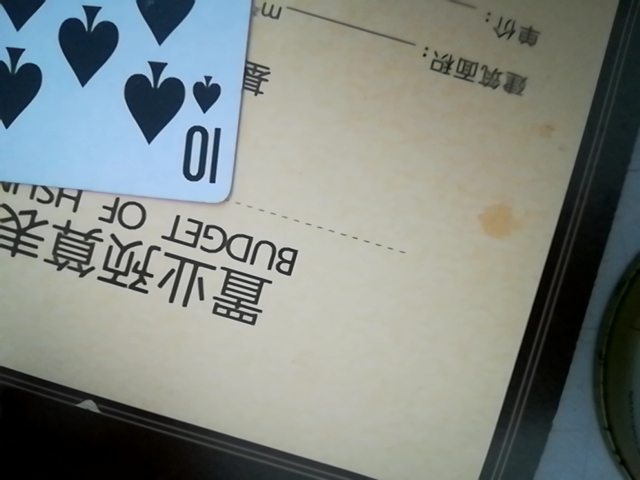ht 10: (0, 3, 271, 209)
